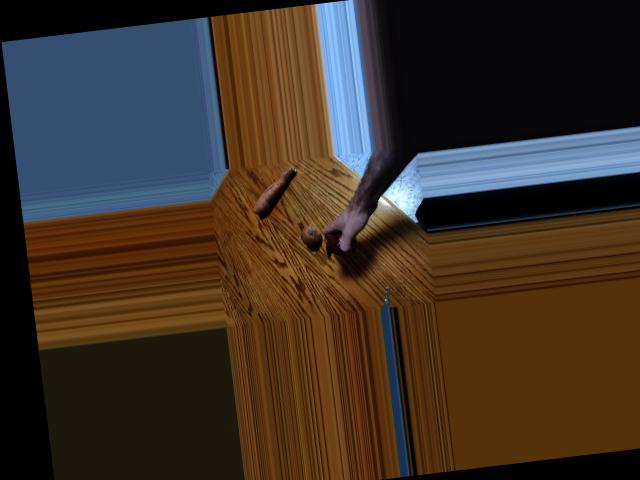onion: (300, 216, 328, 244)
